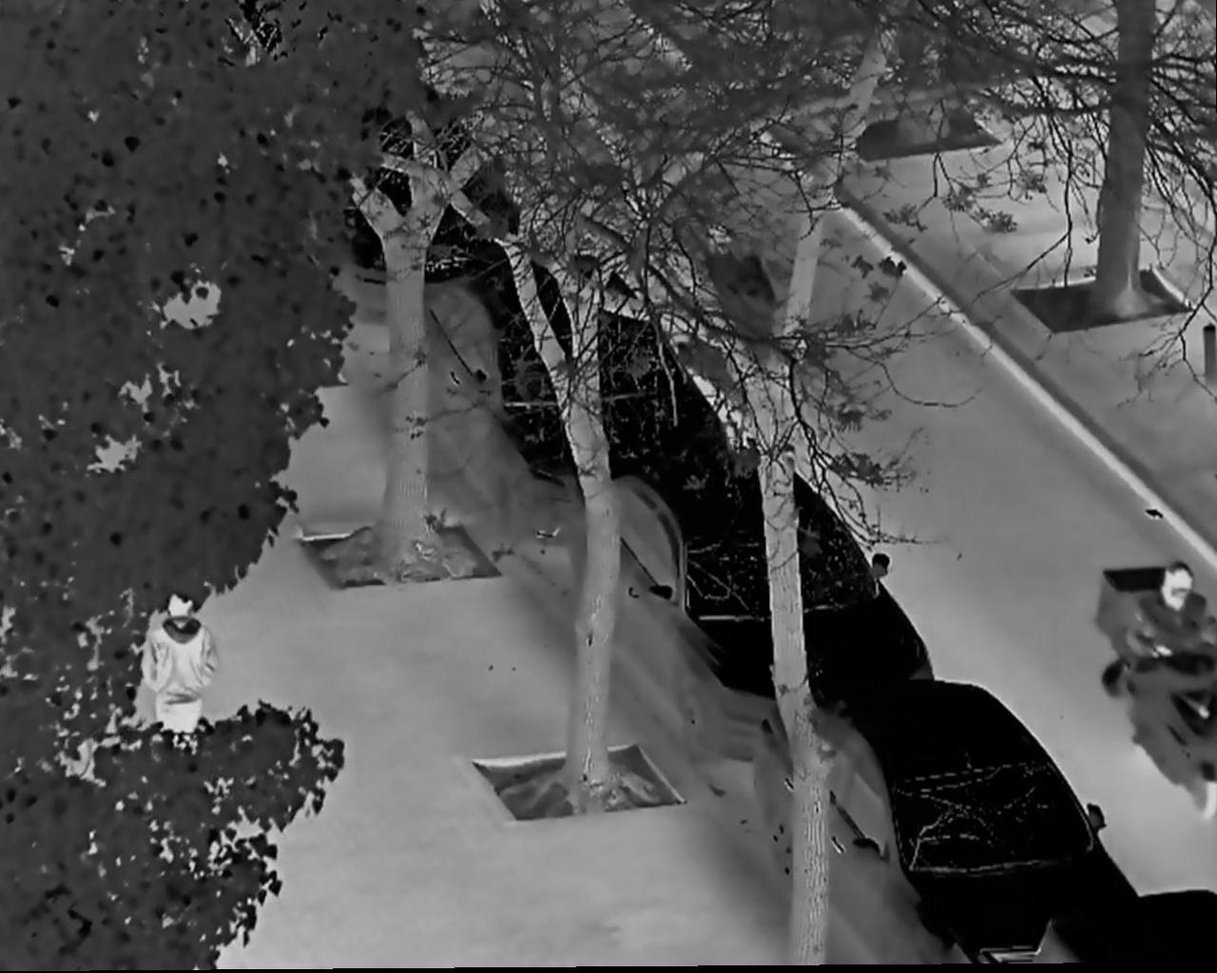person: (137, 582, 217, 792), (1133, 561, 1212, 744)
